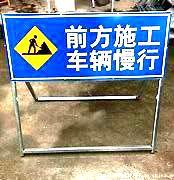sign: (4, 14, 164, 78)
